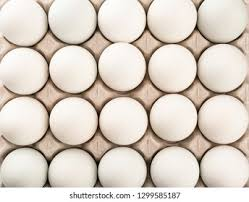eggs: (101, 96, 150, 142), (3, 98, 49, 146), (204, 95, 249, 141), (201, 43, 246, 89), (204, 142, 249, 187), (150, 45, 195, 89), (1, 0, 47, 43), (51, 48, 97, 91), (50, 3, 97, 44), (156, 147, 201, 189), (147, 3, 194, 42), (2, 48, 45, 90), (103, 42, 141, 89), (201, 2, 249, 39), (154, 94, 195, 137), (55, 98, 95, 142), (3, 152, 49, 189), (100, 3, 143, 42), (102, 145, 142, 186), (57, 148, 97, 187)
